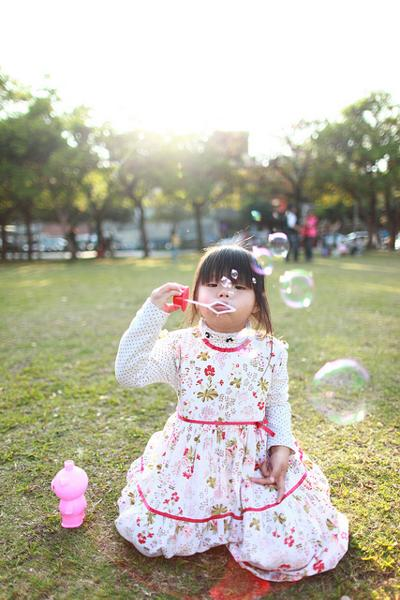person: (114, 244, 351, 584)
